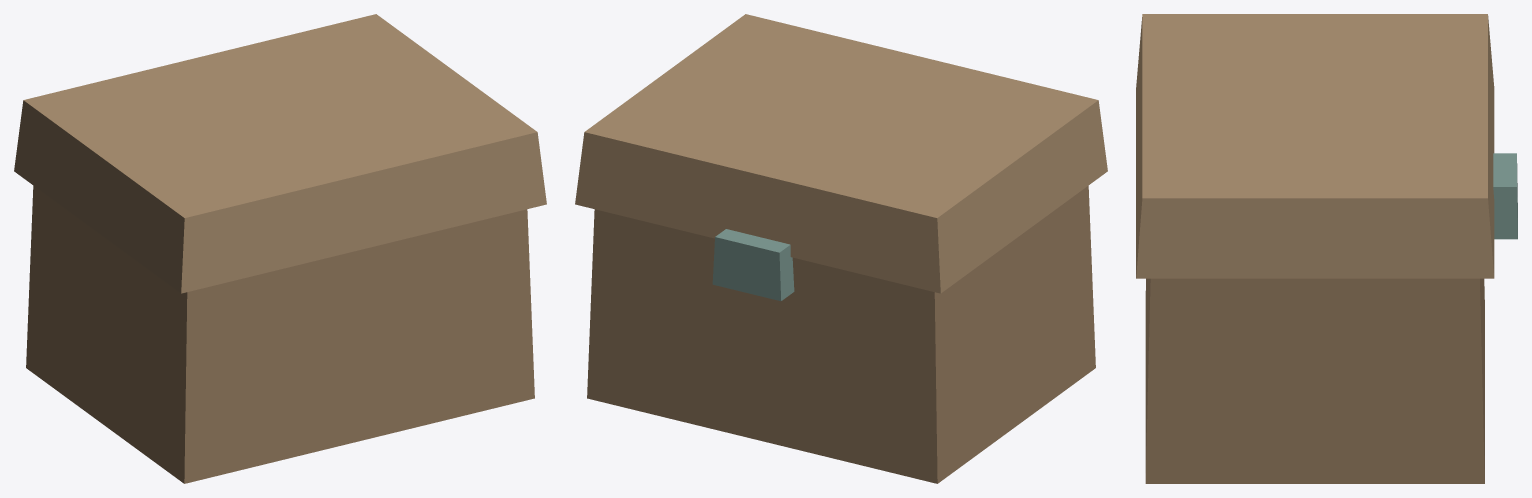
File: chest_storage.glb
3 views of the same model, side by side, from view 1: azimuth 30°, elevation 25°; view 2: azimuth 150°, elevation 25°; view 3: azimuth 270°, elevation 25° (orthographic). The views are drawn at different scales.
Visible parts, largest first — view 1: part_0, part_1; view 2: part_1, part_0, part_2; view 3: part_1, part_0, part_2.
Boxes of the visible parts, box(x1,y1,x2,y2) form: part_0: box(26, 185, 534, 483); part_1: box(14, 14, 546, 293); part_1: box(575, 14, 1107, 293); part_0: box(587, 185, 1095, 483); part_2: box(712, 229, 794, 301); part_1: box(1136, 14, 1494, 278); part_0: box(1145, 278, 1484, 483); part_2: box(1493, 153, 1517, 239).
Bounding box in the file's own units: 0.96 × 0.67 × 0.81.
